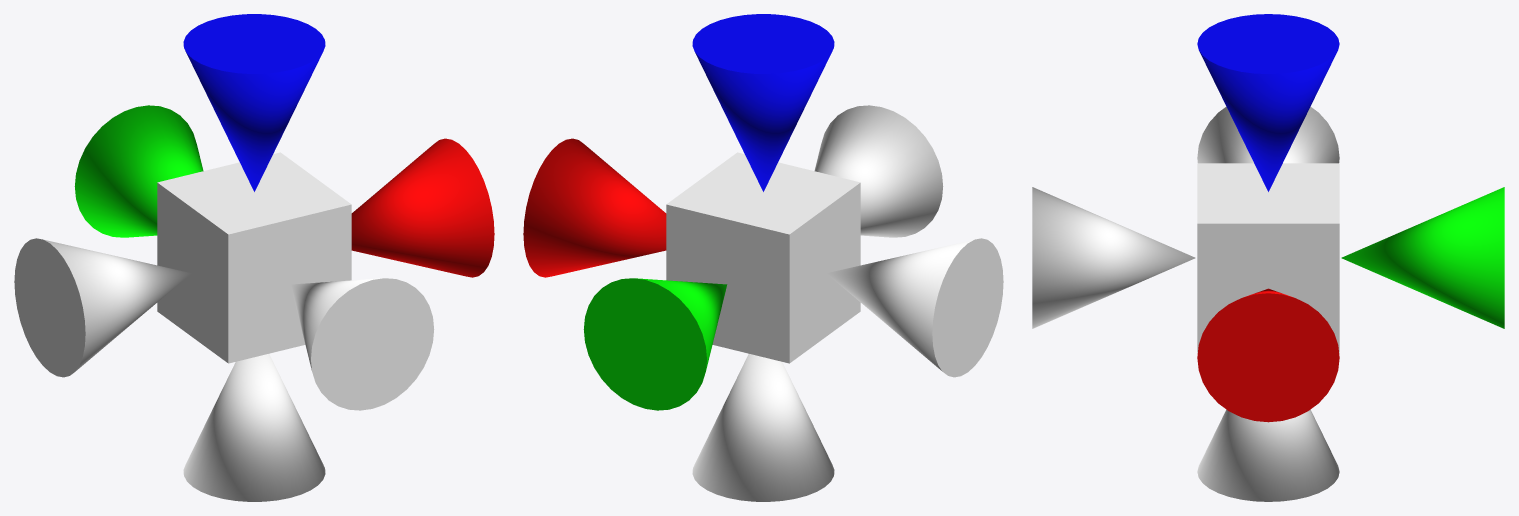
File: Axis.fbx
3 views of the same model, side by side, from view 1: azimuth 30°, elevation 25°; view 2: azimuth 150°, elevation 25°; view 3: azimuth 270°, elevation 25° (orthographic).
Visible parts, largest first — view 1: Cone.002; view 2: Cone.002; view 3: Cone.002.
Part boxes in pixels (bbox=[...]): Cone.002: bbox=[14, 14, 494, 501]; Cone.002: bbox=[523, 14, 1003, 501]; Cone.002: bbox=[1032, 14, 1504, 501].
Bounding box in the file's own units: 99.5 × 99.5 × 99.5.
